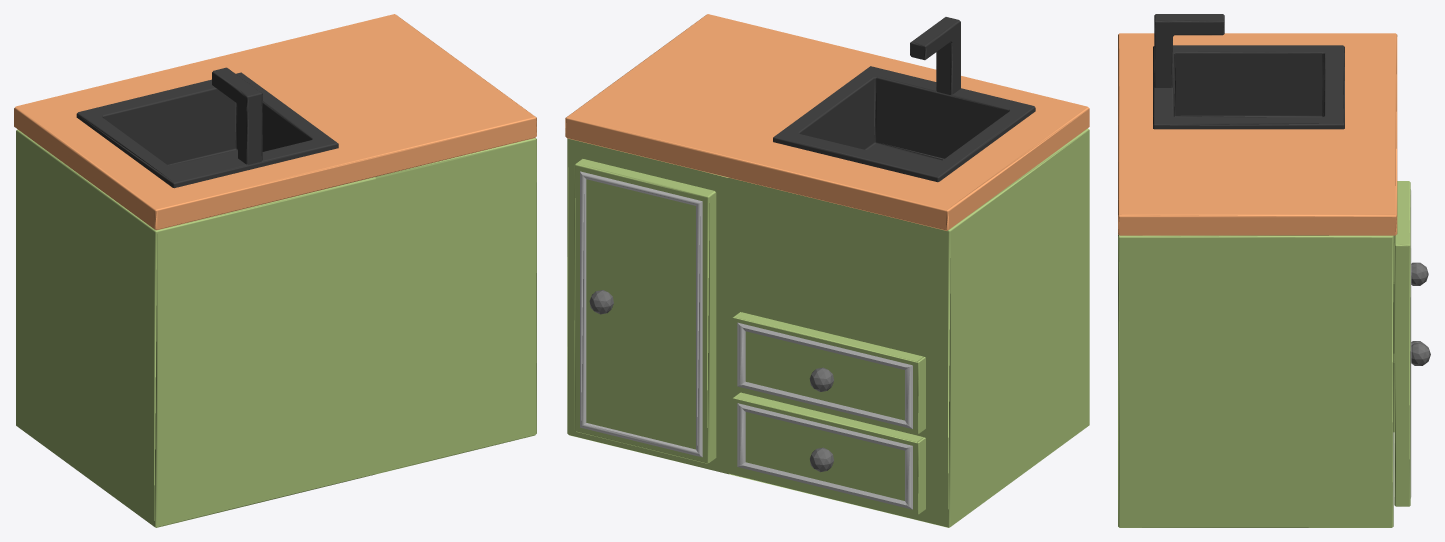
Rendered from kitchenset3.obj.
3 renders of one model, left to right at view 1: azimuth 30°, elevation 25°; view 2: azimuth 150°, elevation 25°; view 3: azimuth 270°, elevation 25°, orthographic. The views are drawn at different scales.
Visible parts, largest first — view 1: Counter_with_sink_Cube.071; view 2: Counter_with_sink_Cube.071; view 3: Counter_with_sink_Cube.071.
Part boxes in pixels (x1,y1,x2,y2): Counter_with_sink_Cube.071: (14,14,536,527); Counter_with_sink_Cube.071: (565,14,1089,527); Counter_with_sink_Cube.071: (1118,14,1430,527).
Size of the model in its own units: 2.94 by 2.88 by 2.12.
